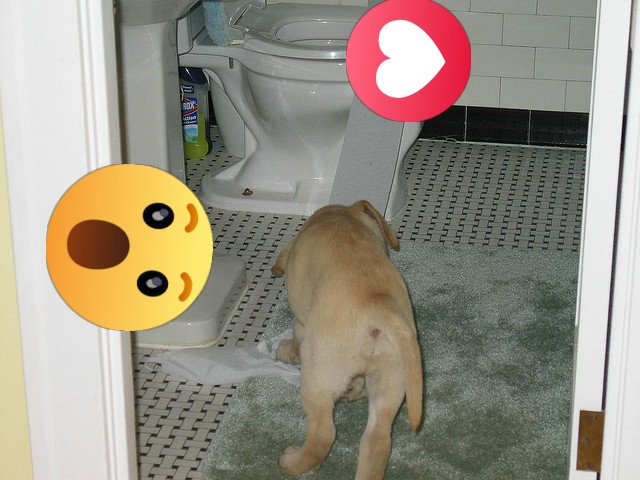love: (346, 0, 471, 122)
wow: (46, 164, 213, 331)
